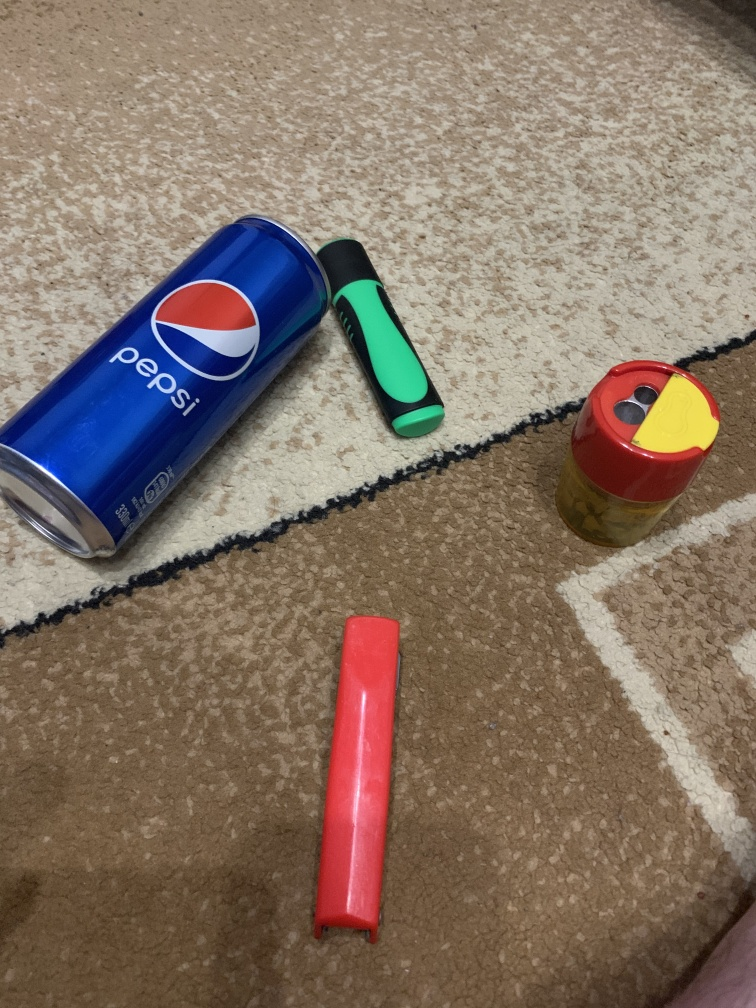pepsi: (2, 213, 339, 612)
